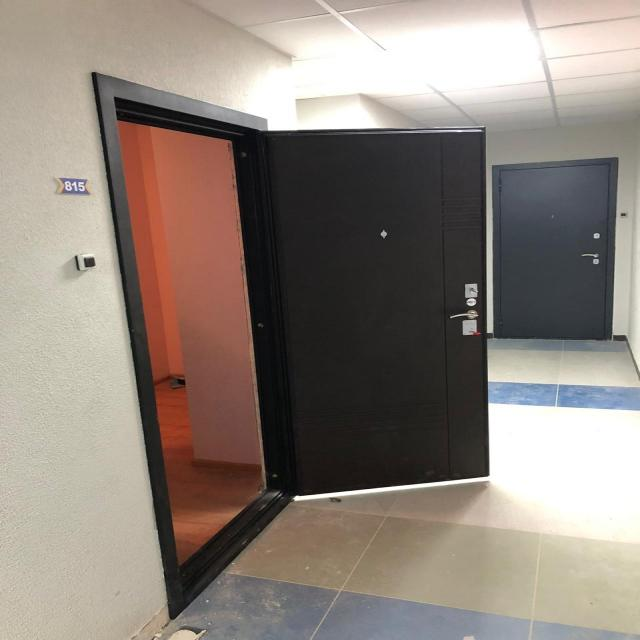close: (494, 167, 620, 340)
open: (100, 92, 480, 550)
